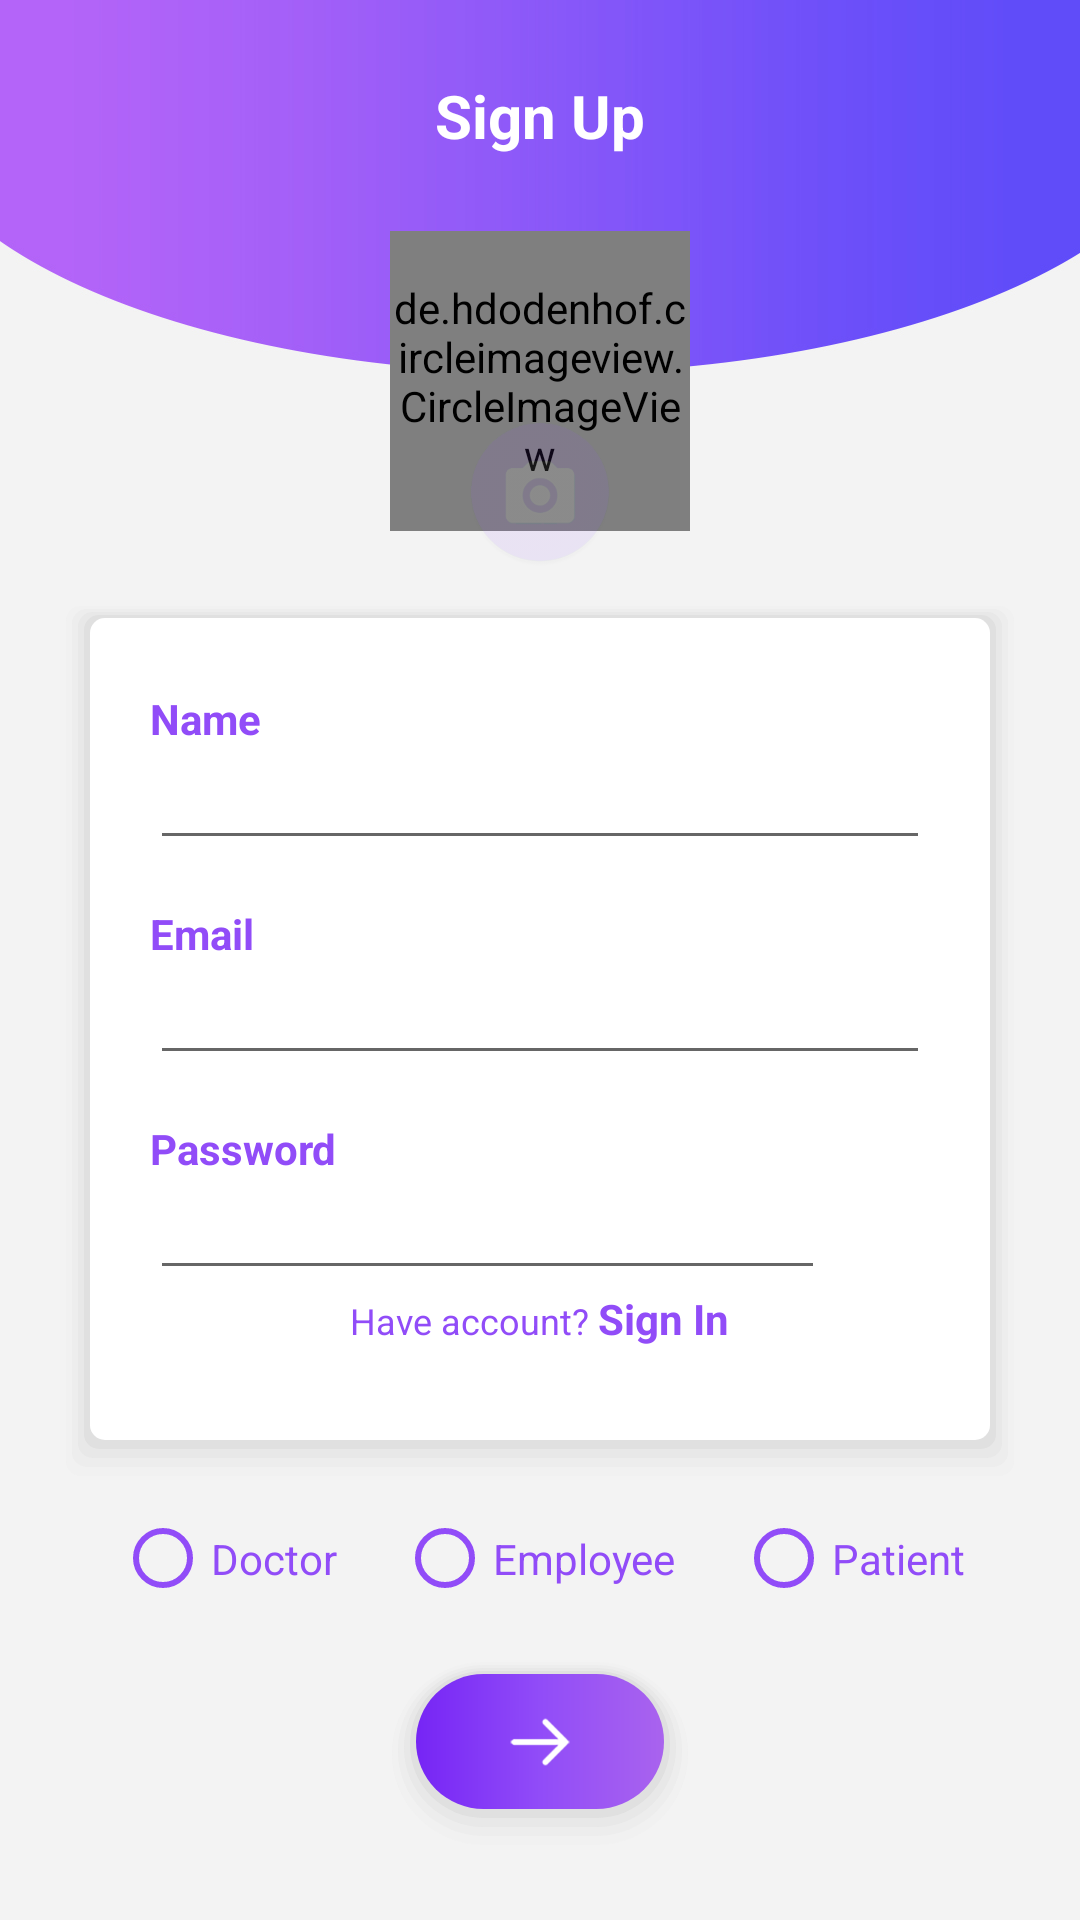

Screen size 1080×1920. Icon name, then its box in pixels as (x1, y1, x2, y2):
rightarrow: (416, 1674, 664, 1809)
